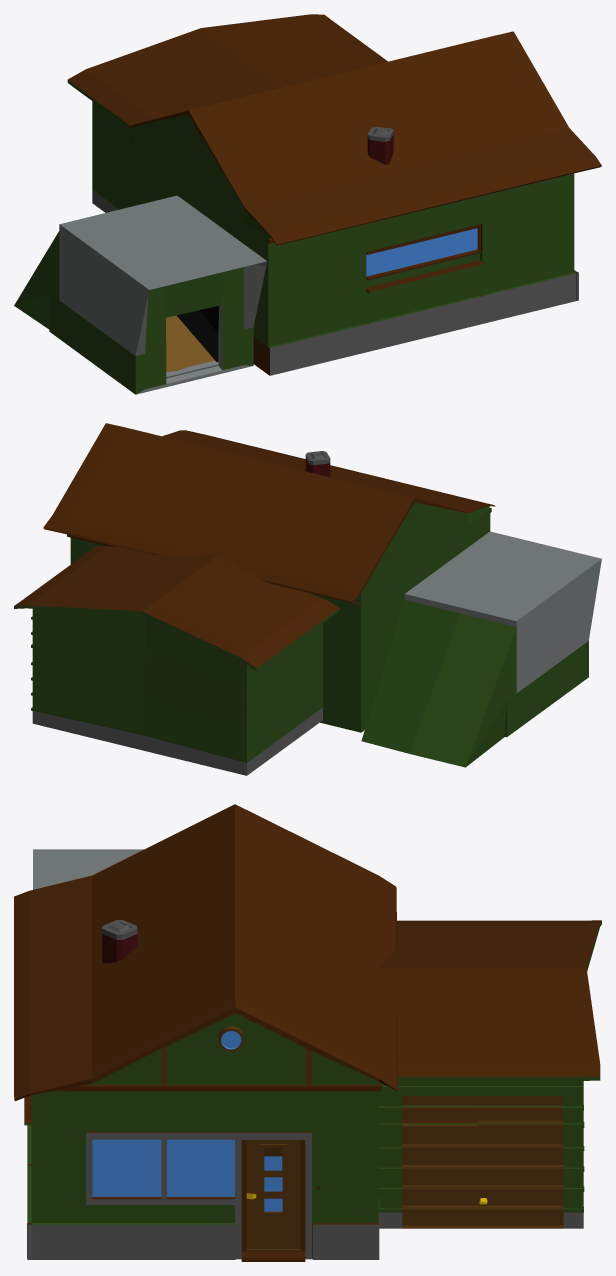
The model's file is Domek Schron.fbx.
3 renders of one model, top to bottom at view 1: azimuth 30°, elevation 25°; view 2: azimuth 150°, elevation 25°; view 3: azimuth 270°, elevation 25°, orthographic. The views are drawn at different scales.
Parts seen in each view (by area): view 1: Cube, Cube.003, Cube.001, Cube.002; view 2: Cube, Cube.001, Cube.003, Cube.002; view 3: Cube, Cube.001, Cube.003, Cube.002.
Boxes of the visible parts, <box> form: Cube: <box>127,31,601,375</box>; Cube.003: <box>14,195,267,394</box>; Cube.001: <box>67,14,387,212</box>; Cube.002: <box>367,126,393,164</box>; Cube: <box>43,423,495,732</box>; Cube.001: <box>14,545,339,775</box>; Cube.003: <box>361,531,601,767</box>; Cube.002: <box>305,451,330,477</box>; Cube: <box>14,804,398,1261</box>; Cube.001: <box>377,920,601,1228</box>; Cube.003: <box>33,849,143,889</box>; Cube.002: <box>102,920,137,963</box>.
Size of the model in its own units: 2416 by 1120 by 2161.
